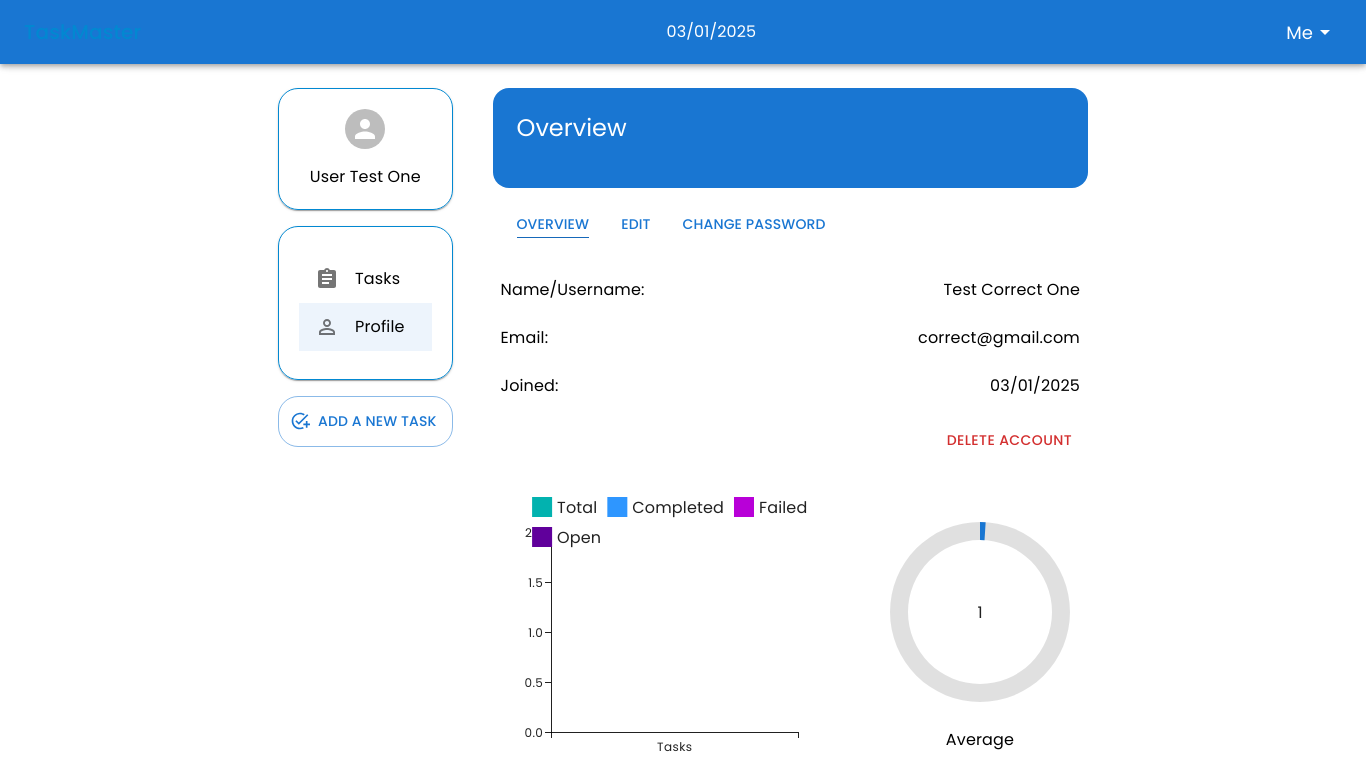
Test case: Profile Layout component testing › Should navigate to the Change Password page
Step 1. Click the link with aria-label "link-/profile/change-password" → (754, 225), box x1=683 y1=212 x2=826 y2=238
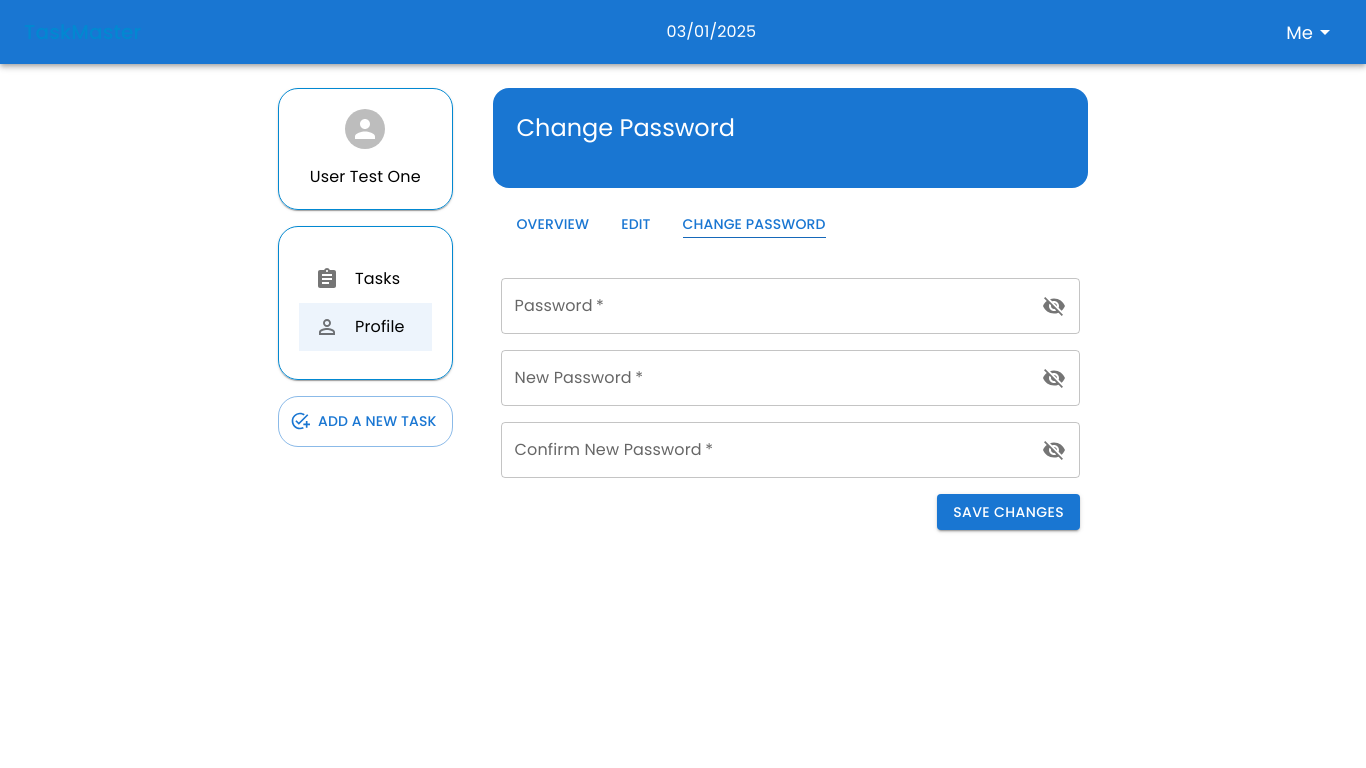
Result: the heading "Change Password" is shown at x1=516 y1=111 x2=735 y2=144
